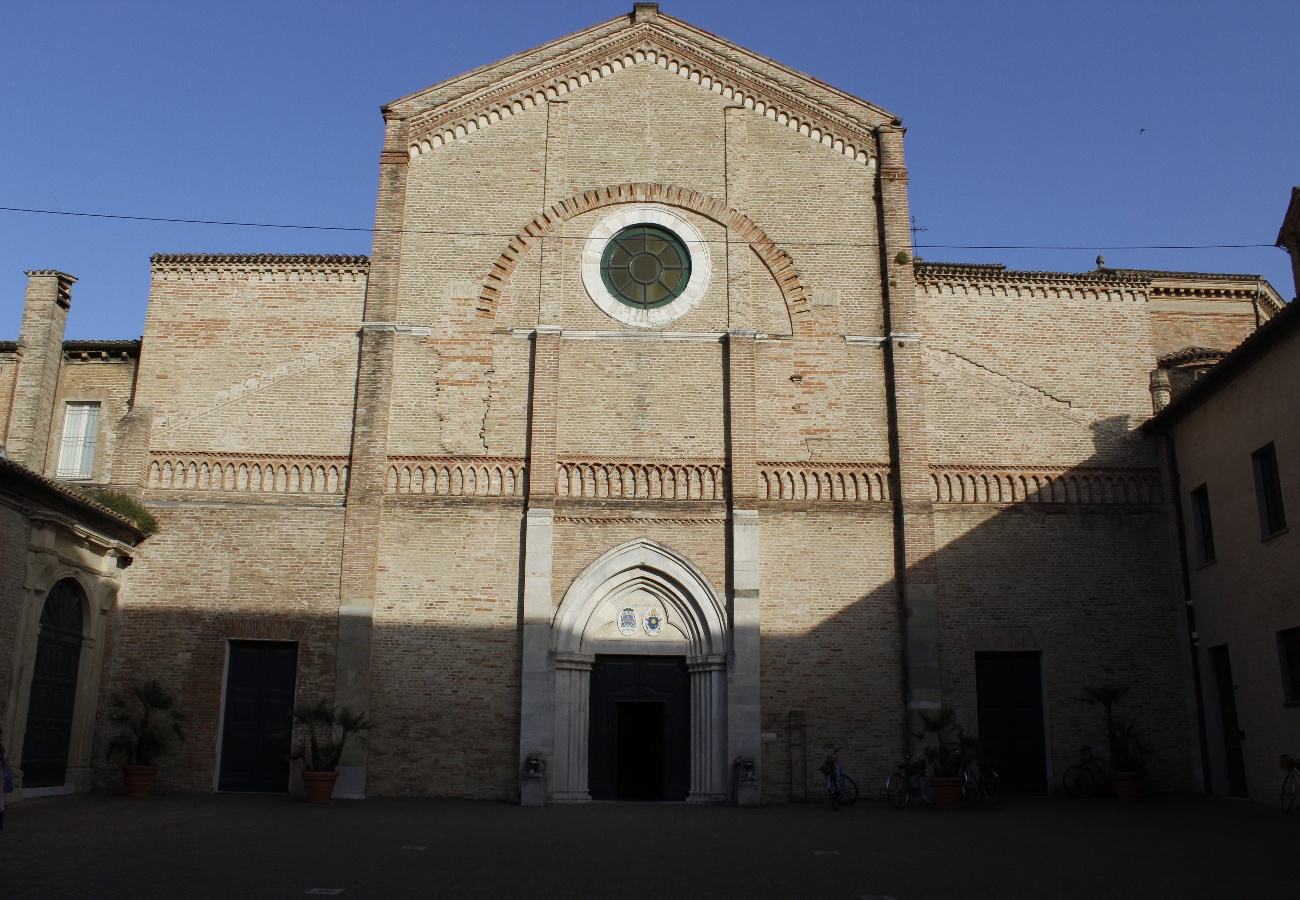Cattedrale Santa Maria Assunta: (122, 1, 1185, 813)
